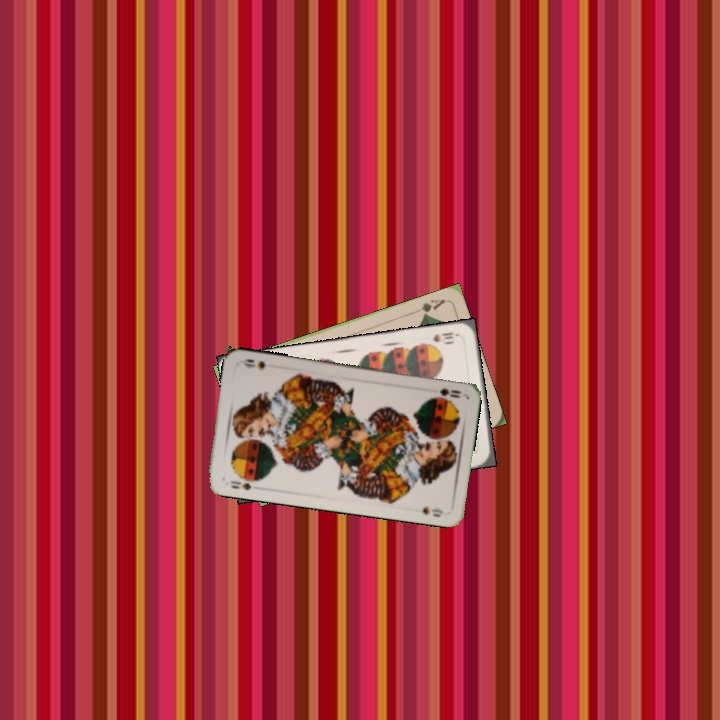GA: (409, 295, 448, 319)
S10: (429, 328, 456, 345)
SO: (435, 384, 464, 400), (226, 477, 254, 493)
